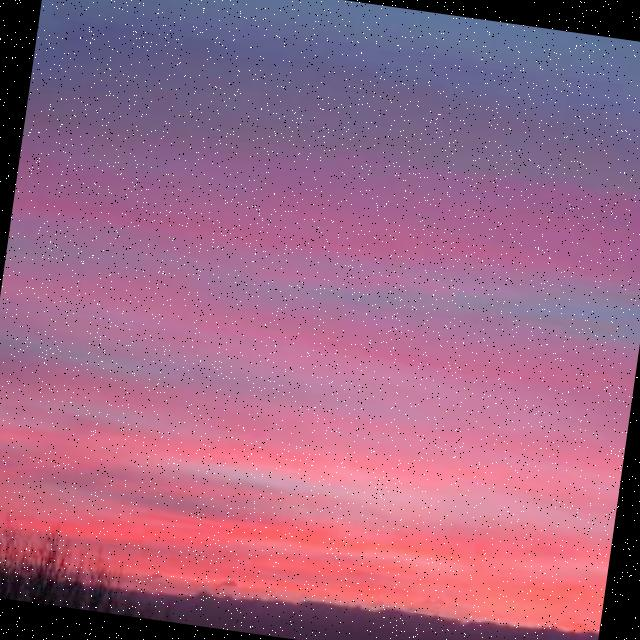Ct: (1, 14, 640, 599)
